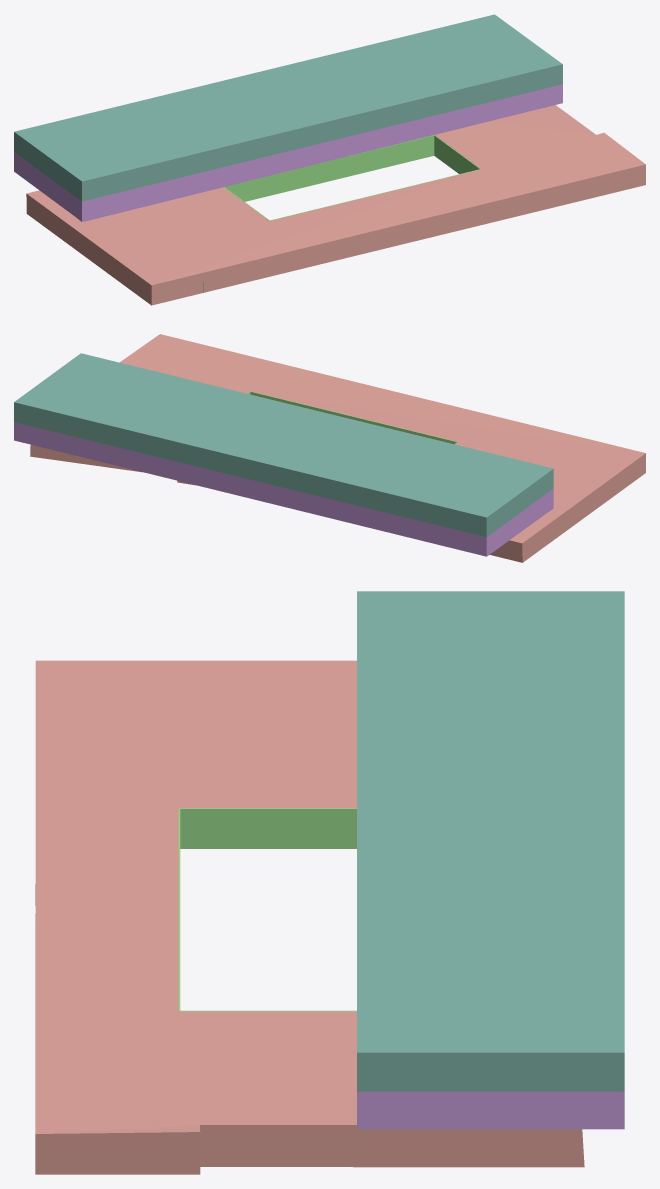
File: BUA_Edificio.fbx
3 views of the same model, one above another, from view 1: azimuth 30°, elevation 25°; view 2: azimuth 150°, elevation 25°; view 3: azimuth 270°, elevation 25° (orthographic). The views are drawn at different scales.
Parts seen in each view (by area): view 1: Paredes Planta Baja, Paredes Segunda Planta, Paredes Primera Planta; view 2: Paredes Segunda Planta, Paredes Planta Baja, Paredes Primera Planta; view 3: Paredes Planta Baja, Paredes Segunda Planta, Paredes Primera Planta.
Boxes of the visible parts, x1=… form: Paredes Planta Baja: x1=26, y1=105, x2=645, y2=305; Paredes Segunda Planta: x1=14, y1=14, x2=562, y2=201; Paredes Primera Planta: x1=14, y1=84, x2=562, y2=222; Paredes Segunda Planta: x1=14, y1=353, x2=553, y2=536; Paredes Planta Baja: x1=30, y1=334, x2=645, y2=562; Paredes Primera Planta: x1=14, y1=422, x2=553, y2=556; Paredes Planta Baja: x1=35, y1=660, x2=584, y2=1174; Paredes Segunda Planta: x1=357, y1=591, x2=624, y2=1092; Paredes Primera Planta: x1=357, y1=1091, x2=624, y2=1129.
Size of the model in its own units: 12875 by 1524 by 6759.
